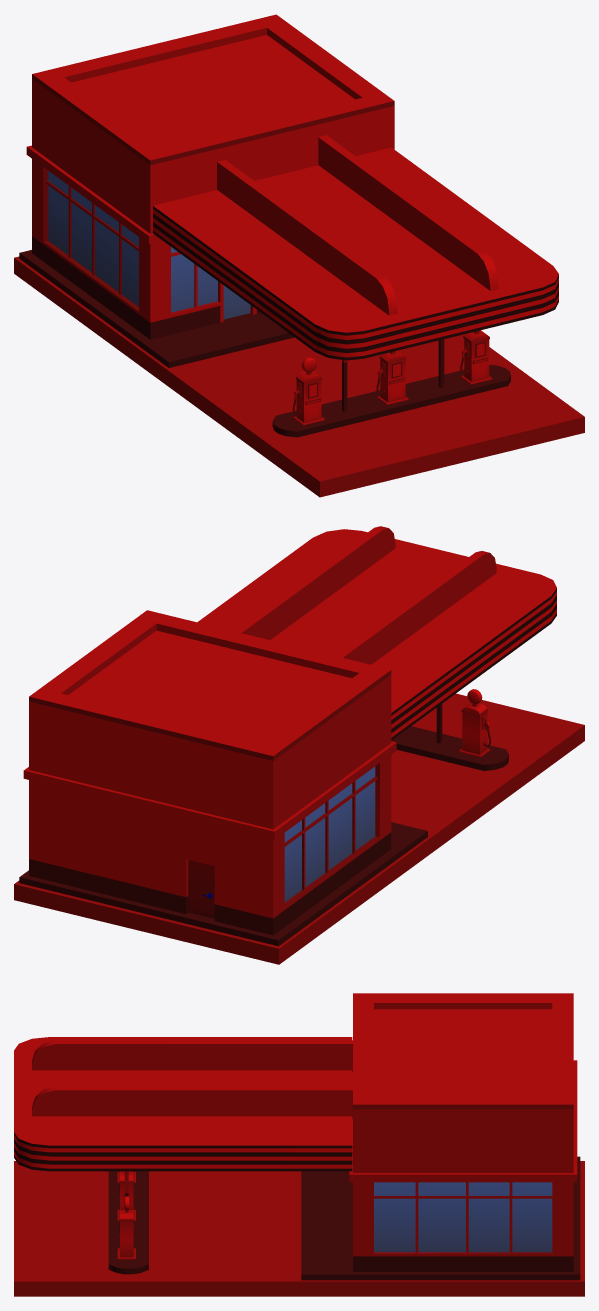
Rendered from buildings-business-oldgasstation_v1.fbx.
The picture shows the model from 3 angles, top to bottom: view 1: azimuth 30°, elevation 25°; view 2: azimuth 150°, elevation 25°; view 3: azimuth 270°, elevation 25°; orthographic projection. The views are drawn at different scales.
Parts seen in each view (by area): view 1: OldGasStation_base, OldGasStation_windowRefl; view 2: OldGasStation_base, OldGasStation_windowRefl; view 3: OldGasStation_base, OldGasStation_windowRefl.
Part boxes in pixels (x1,y1,x2,y2): OldGasStation_base: [14, 14, 584, 497]; OldGasStation_windowRefl: [48, 171, 250, 319]; OldGasStation_base: [14, 526, 584, 964]; OldGasStation_windowRefl: [284, 766, 375, 902]; OldGasStation_base: [14, 993, 584, 1296]; OldGasStation_windowRefl: [374, 1182, 552, 1252].
Bounding box in the file's own units: 11.68 × 8.47 × 23.33.
